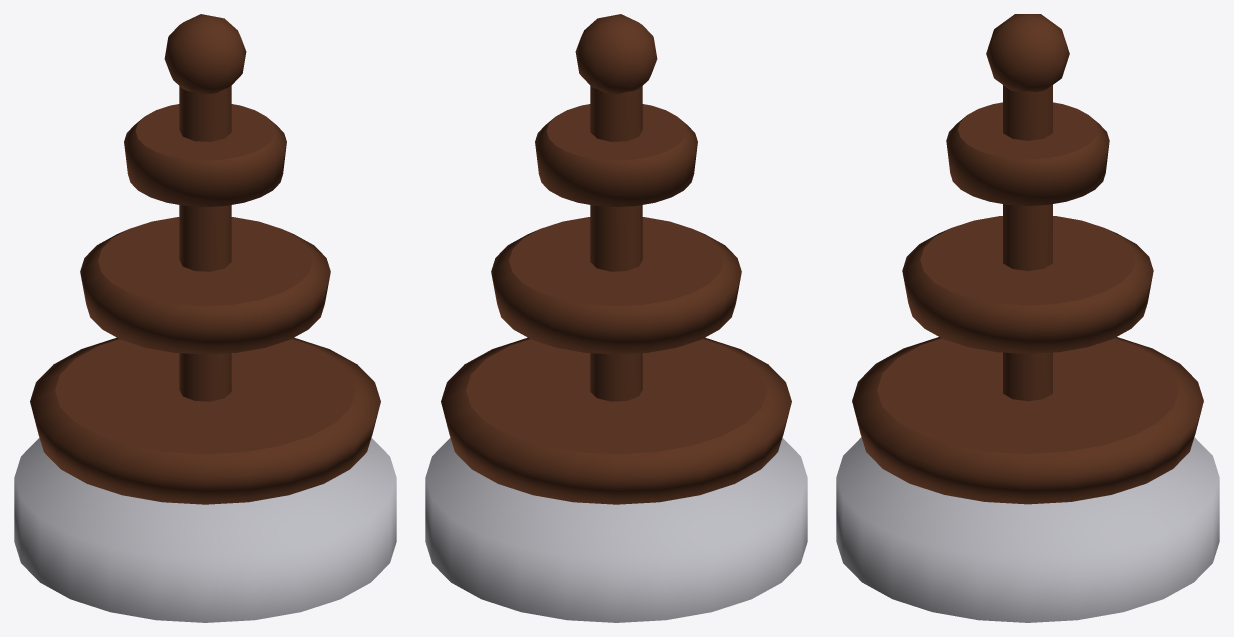
File: furn_choc_fountain.glb
3 views of the same model, side by side, from view 1: azimuth 30°, elevation 25°; view 2: azimuth 150°, elevation 25°; view 3: azimuth 270°, elevation 25° (orthographic).
Parts seen in each view (by area): view 1: furn_choc_fountain_gloss; view 2: furn_choc_fountain_gloss; view 3: furn_choc_fountain_gloss.
Boxes of the visible parts, x1=… form: furn_choc_fountain_gloss: x1=14, y1=14, x2=396, y2=622; furn_choc_fountain_gloss: x1=425, y1=14, x2=807, y2=622; furn_choc_fountain_gloss: x1=836, y1=14, x2=1219, y2=622.
Bounding box in the file's own units: 0.32 × 0.485 × 0.32.
